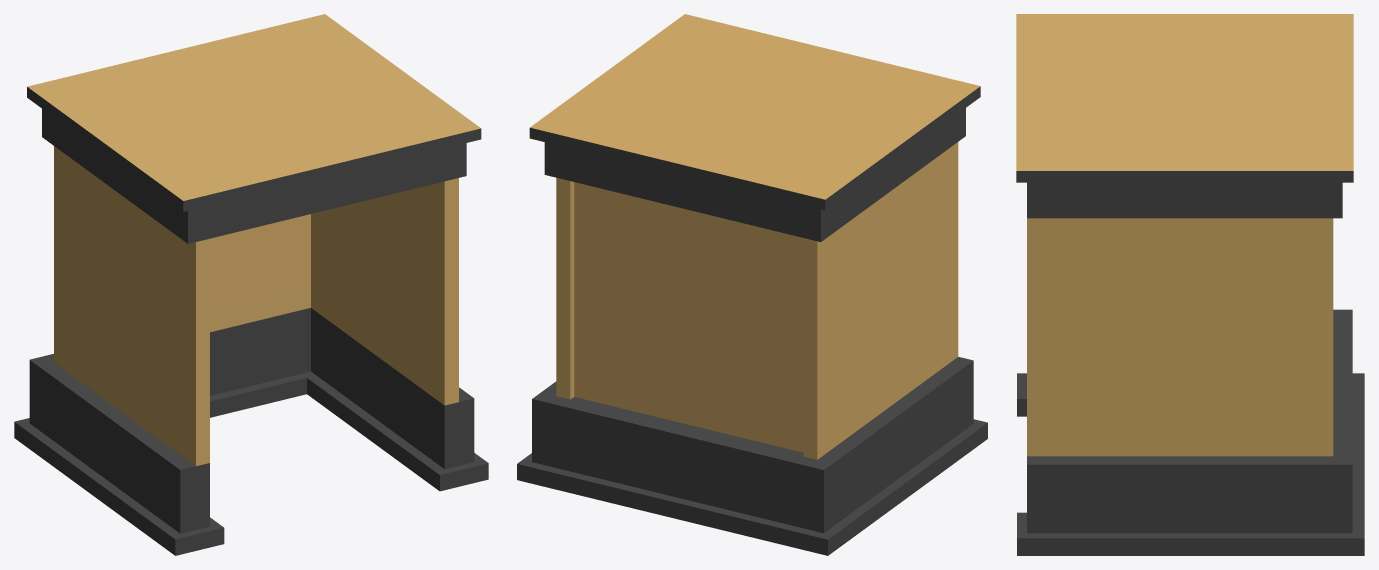
Rendered from Lecturer Table.fbx.
3 views of the same model, side by side, from view 1: azimuth 30°, elevation 25°; view 2: azimuth 150°, elevation 25°; view 3: azimuth 270°, elevation 25° (orthographic). The views are drawn at different scales.
Visible parts, largest first — view 1: Lecturer Table; view 2: Lecturer Table; view 3: Lecturer Table.
Part boxes in pixels (x1,y1,x2,y2): Lecturer Table: (14, 14, 488, 555); Lecturer Table: (517, 14, 987, 555); Lecturer Table: (1016, 14, 1364, 555).
Bounding box in the file's own units: 72.35 × 77.96 × 64.6.
